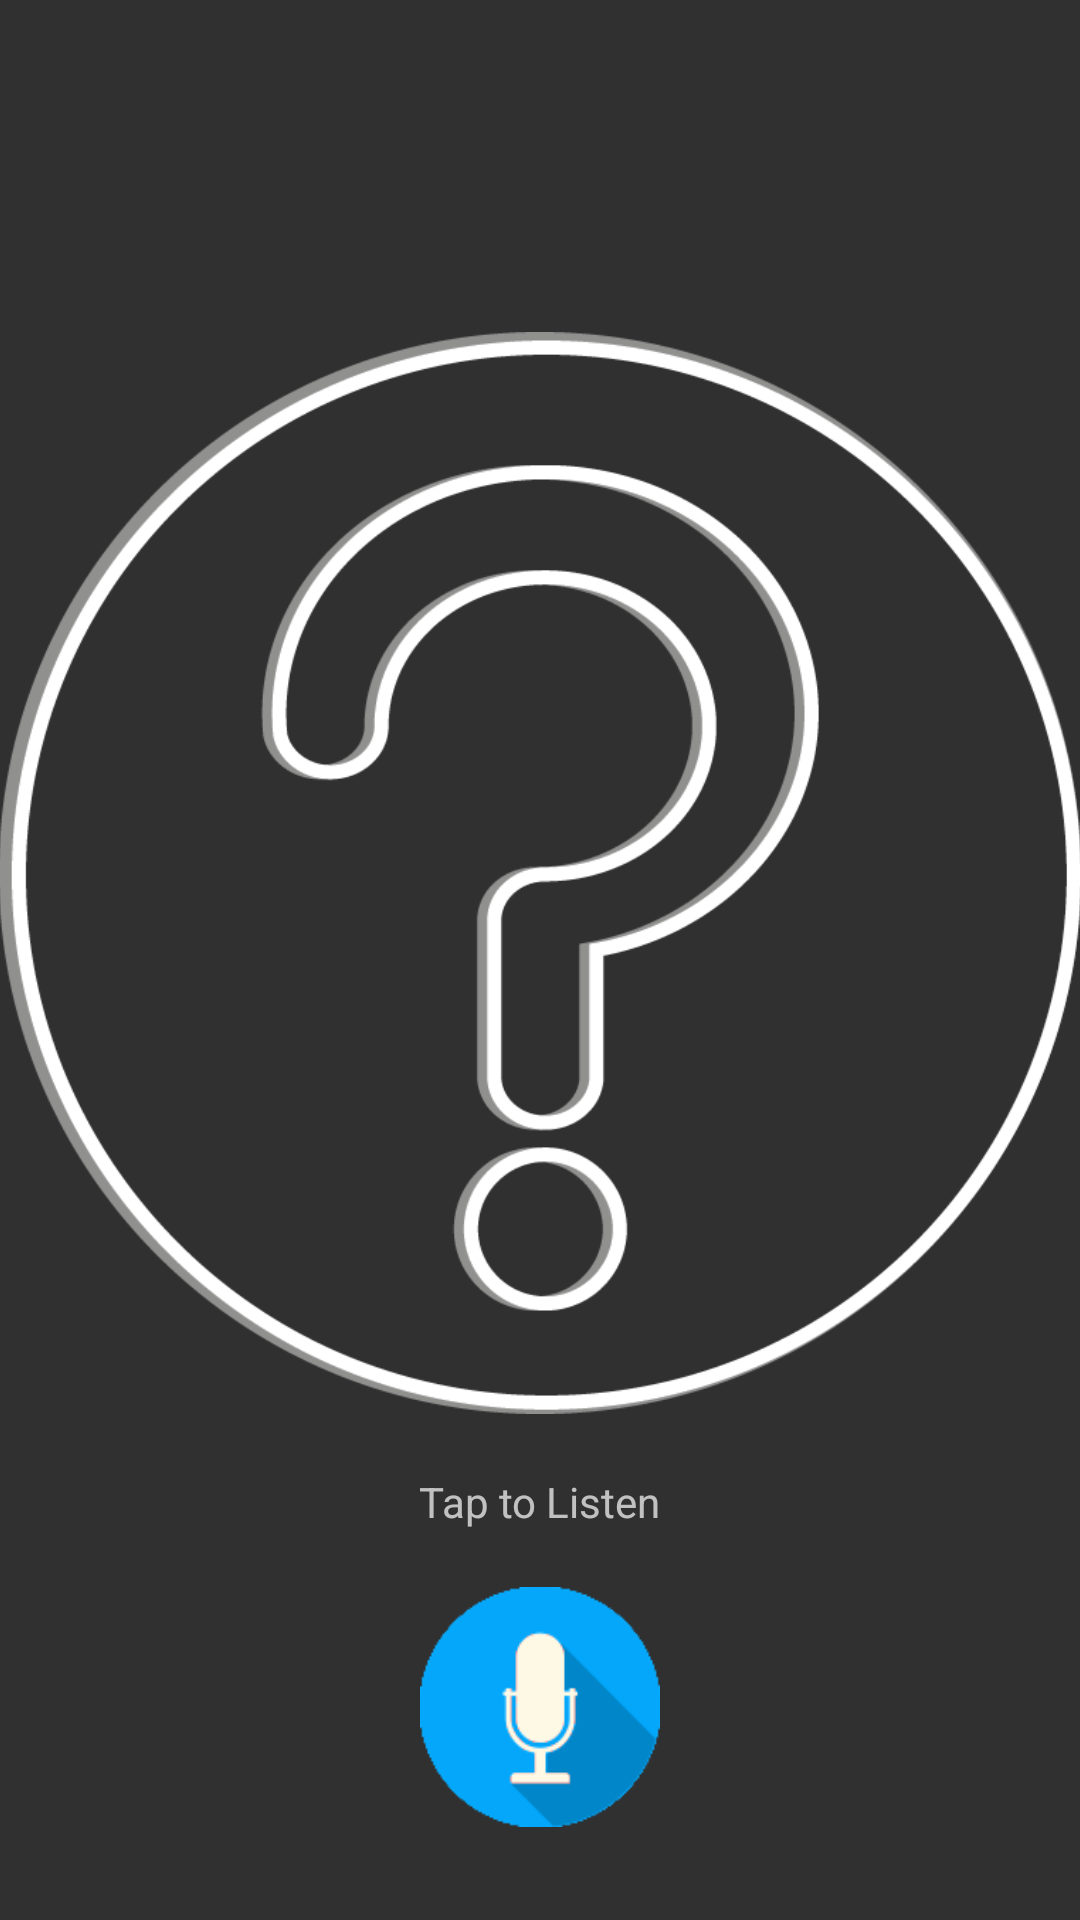

Named icons in this screenshot (1080 × 1920) and their bounding boxes, [x1, y1, x2, y2]:
microphone: [420, 1587, 660, 1827]
